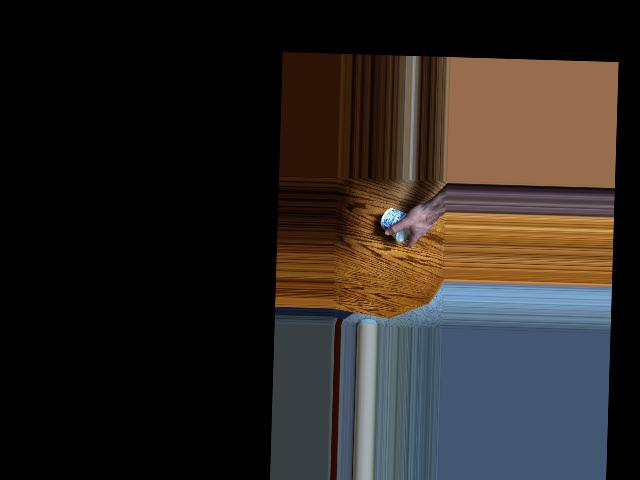cotage: (383, 203, 416, 242)
